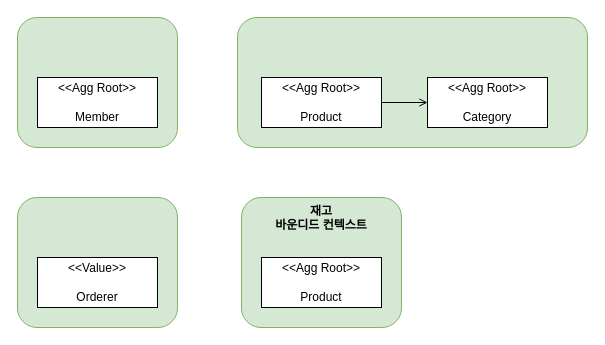
The diagram is 605 pixels wide and 345 high, and some of its shapes have lost their labels. The shapes that lost their labels are listed below. From the top down, each one's box as (x1, y1, x2, y2) in pixels, then its label:
(16, 16, 178, 148): 회원 바운디드 컨텍스트
(236, 16, 588, 148): 카탈로그 바운디드 컨텍스트
(16, 196, 178, 328): 주문 바운디드 컨텍스트
